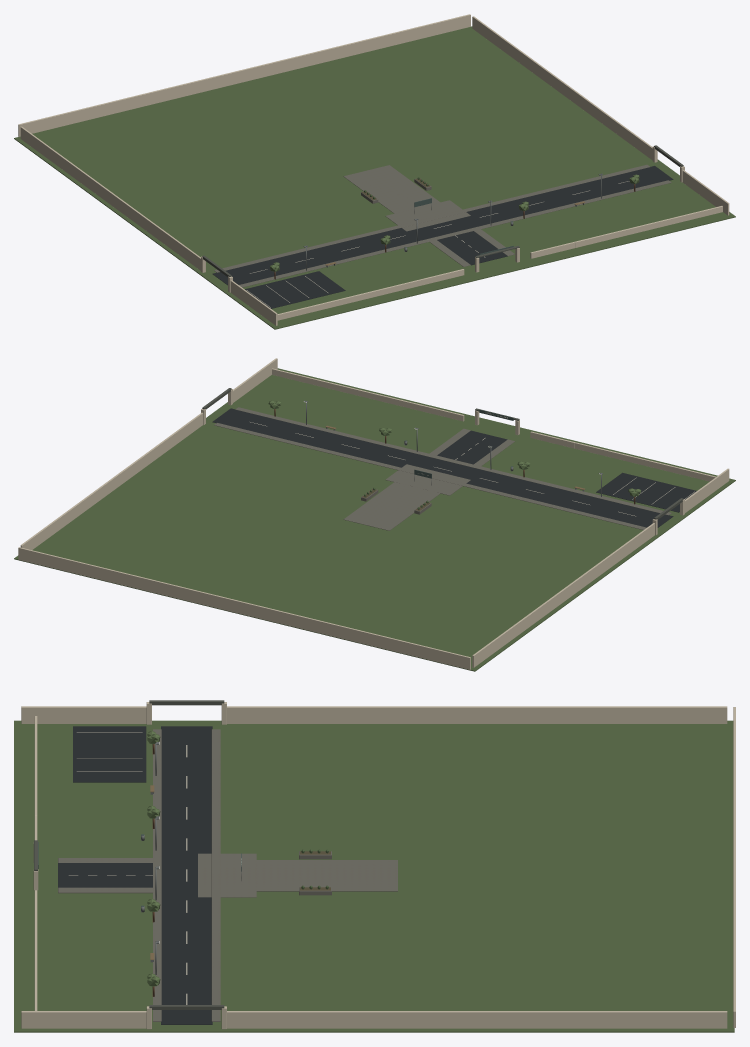
File: district_commons.glb
The picture shows the model from 3 angles, top to bottom: view 1: azimuth 30°, elevation 25°; view 2: azimuth 150°, elevation 25°; view 3: azimuth 270°, elevation 25°; orthographic projection. The views are drawn at different scales.
Visible parts, largest first — view 1: DD_district_commons; view 2: DD_district_commons; view 3: DD_district_commons.
Part boxes in pixels (<box>): DD_district_commons: <box>14,14,735,329</box>; DD_district_commons: <box>14,358,735,671</box>; DD_district_commons: <box>14,700,735,1032</box>.
Size of the model in its own units: 100 by 5.22 by 98.17.
Materials: 15 (8 with a texture image).
